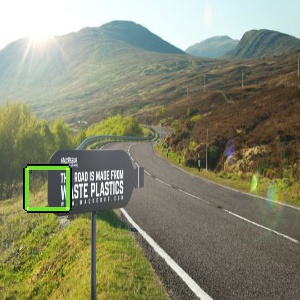square: (22, 163, 72, 212)
